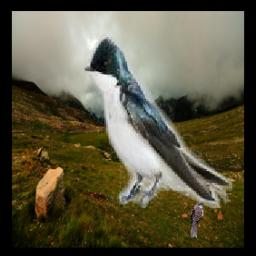Cuckoo: (191, 202, 205, 238)
Swallow: (82, 32, 231, 208)
